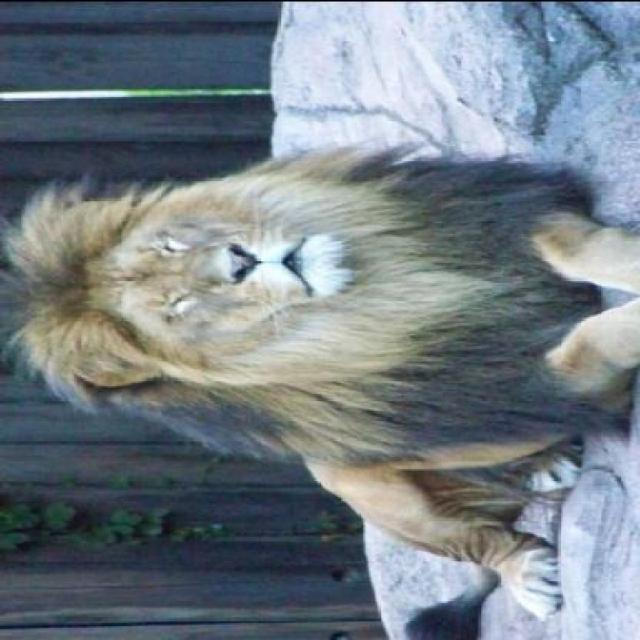Lion: (6, 150, 639, 624)
